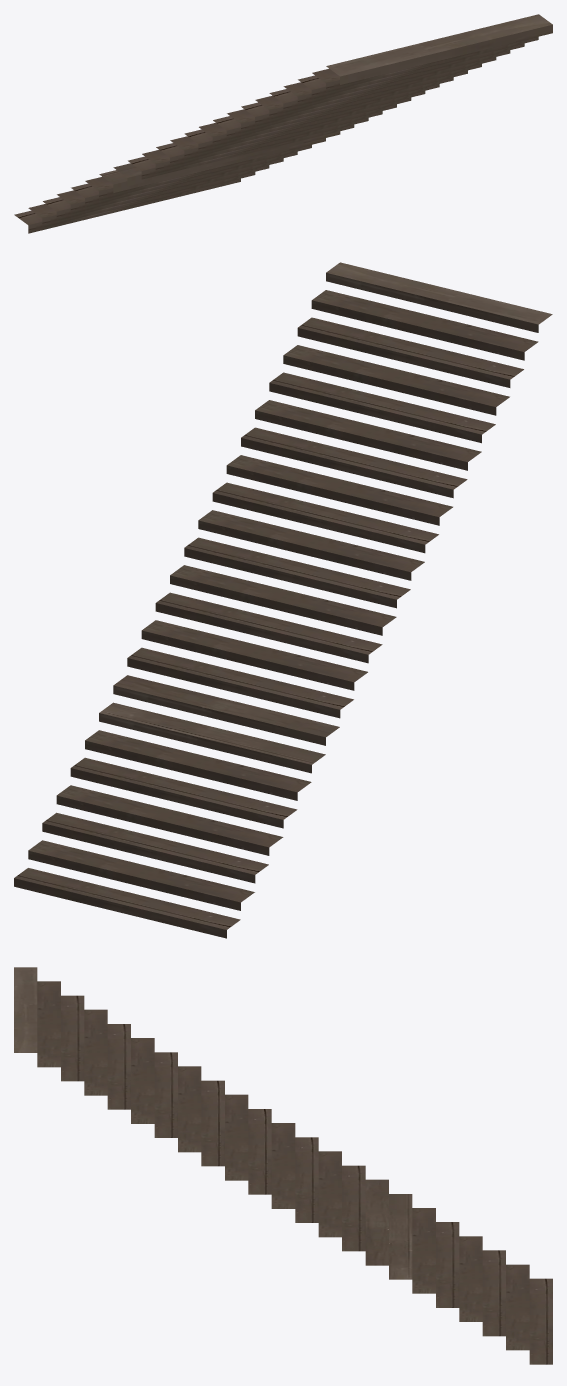
3 renders of one model, top to bottom at view 1: azimuth 30°, elevation 25°; view 2: azimuth 150°, elevation 25°; view 3: azimuth 270°, elevation 25°, orthographic. The views are drawn at different scales.
Visible parts, largest first — view 1: body0_model0_lod0_mesh0; view 2: body0_model0_lod0_mesh0; view 3: body0_model0_lod0_mesh0.
Part boxes in pixels (bbox=[...]): body0_model0_lod0_mesh0: bbox=[14, 14, 552, 233]; body0_model0_lod0_mesh0: bbox=[14, 262, 552, 938]; body0_model0_lod0_mesh0: bbox=[14, 967, 552, 1364].
Size of the model in its own units: 104 by 180 by 276.
Materials: 1 (1 with a texture image).
